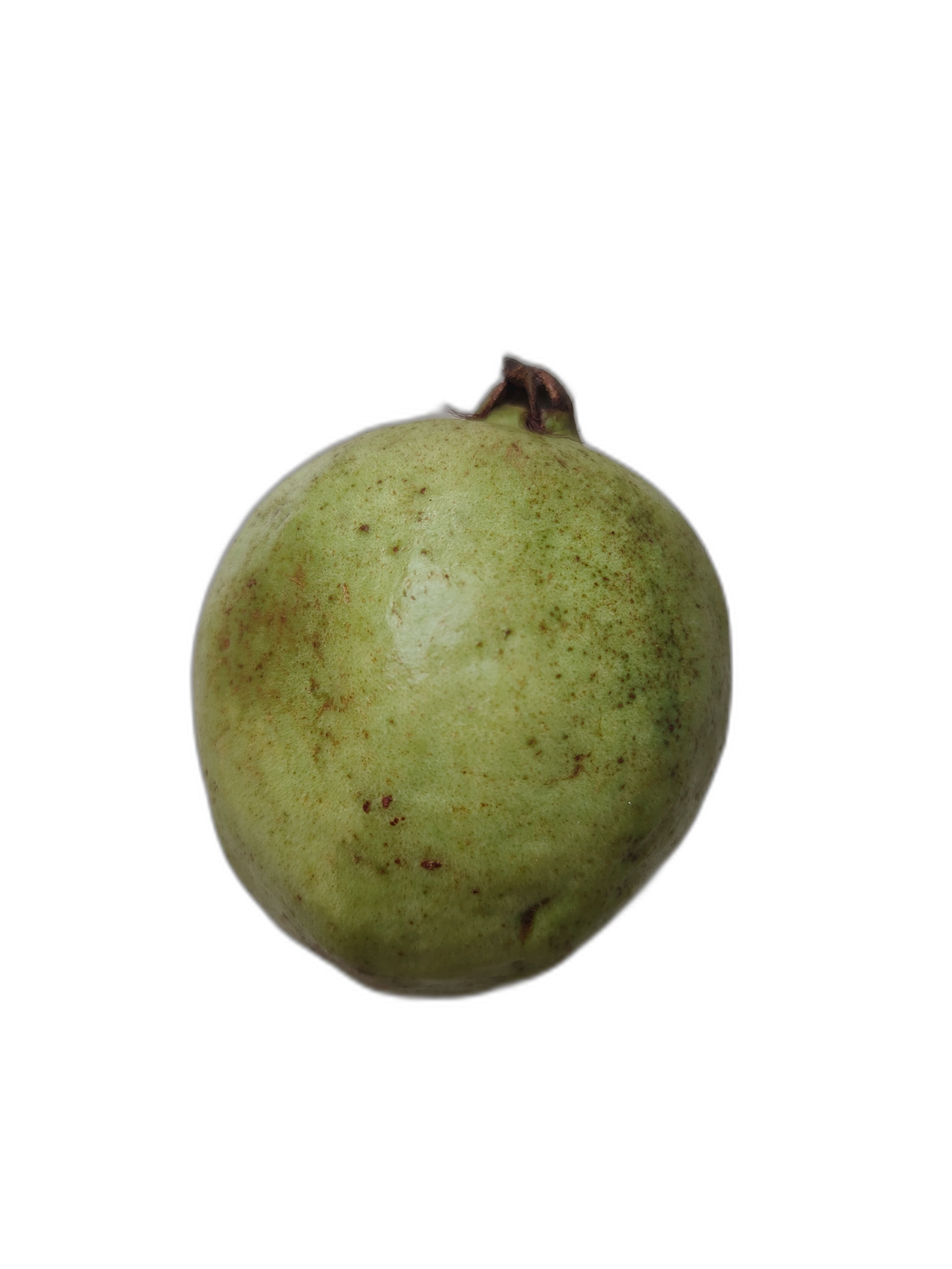guava: (152, 82, 897, 1207)
